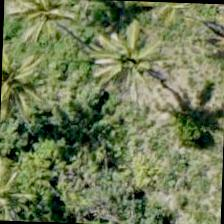Kelapa_Sawit: (62, 8, 156, 102), (12, 0, 105, 54)
